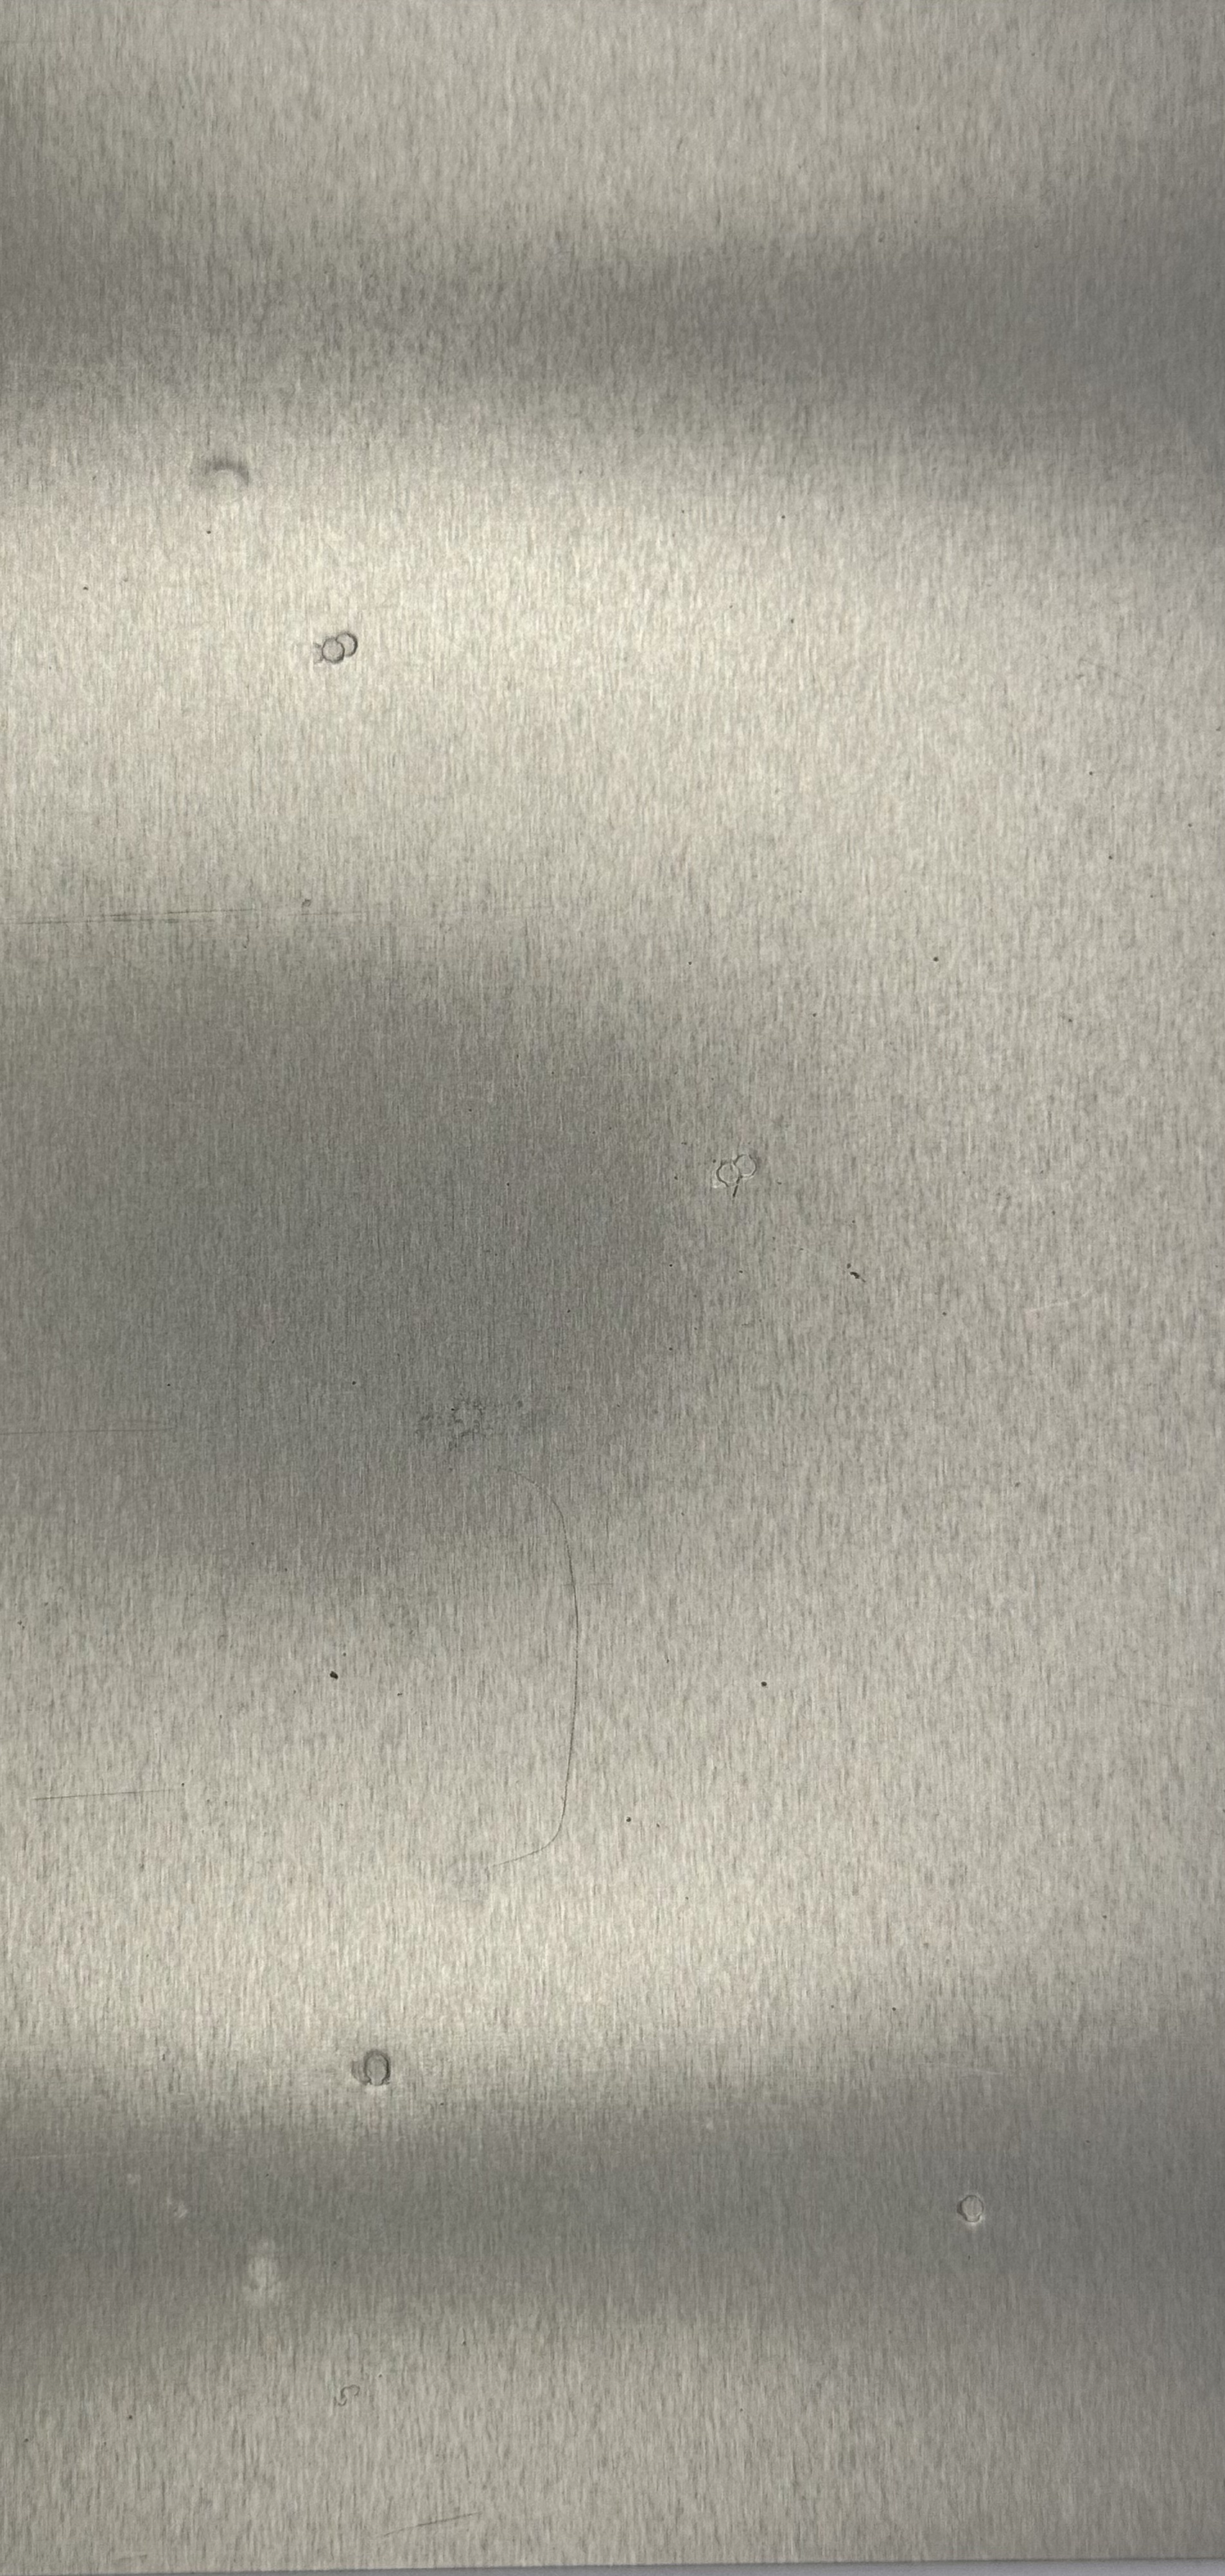Delle: (223, 2211, 323, 2326), (172, 439, 268, 526), (695, 1138, 787, 1214), (330, 2032, 415, 2106), (294, 614, 371, 685), (939, 2177, 1002, 2238)
